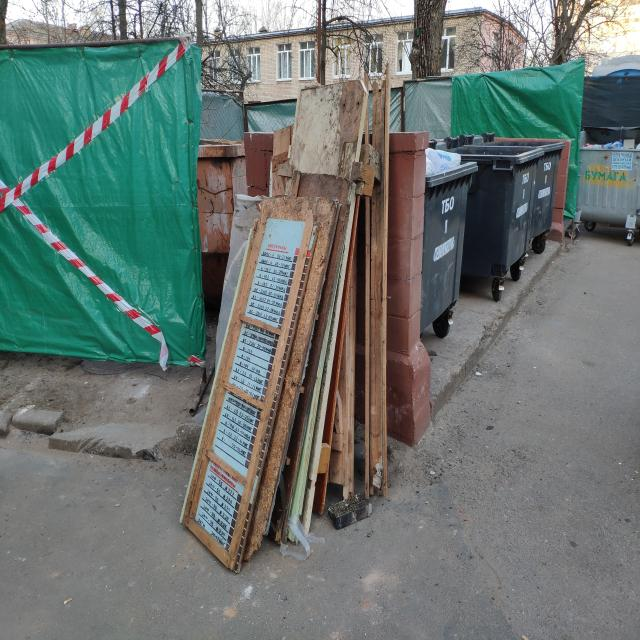entulho: (230, 229, 350, 552), (352, 61, 391, 514), (272, 66, 372, 201), (244, 211, 311, 327), (327, 492, 374, 527)
lixo domiciliar: (421, 145, 463, 176), (583, 140, 640, 152)
